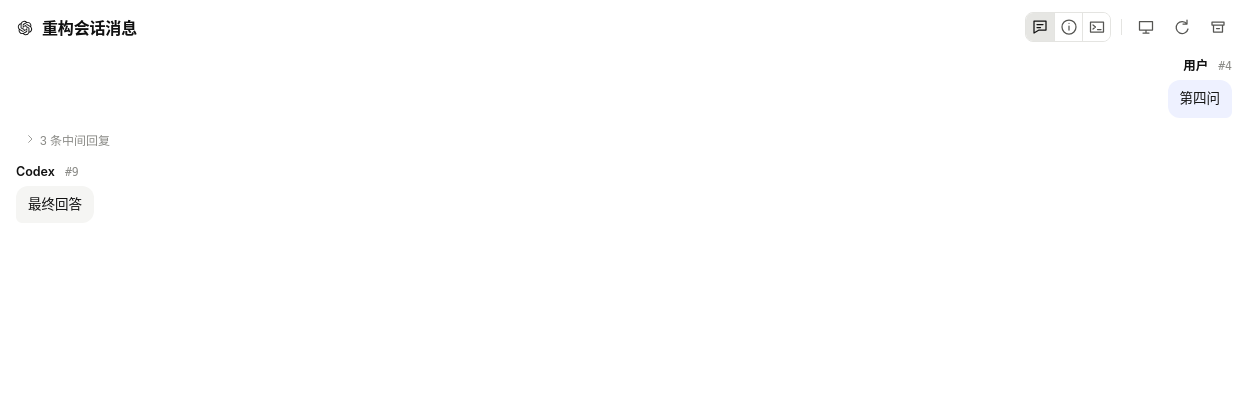
Scenario: says so in the block when a turn's intermediates were cut short
# 两端时间戳缺一个就给不出时长：摘要退化为条数。
Click the button "3 条中间回复" at {"x": 67, "y": 139}, box [16, 128, 118, 151]
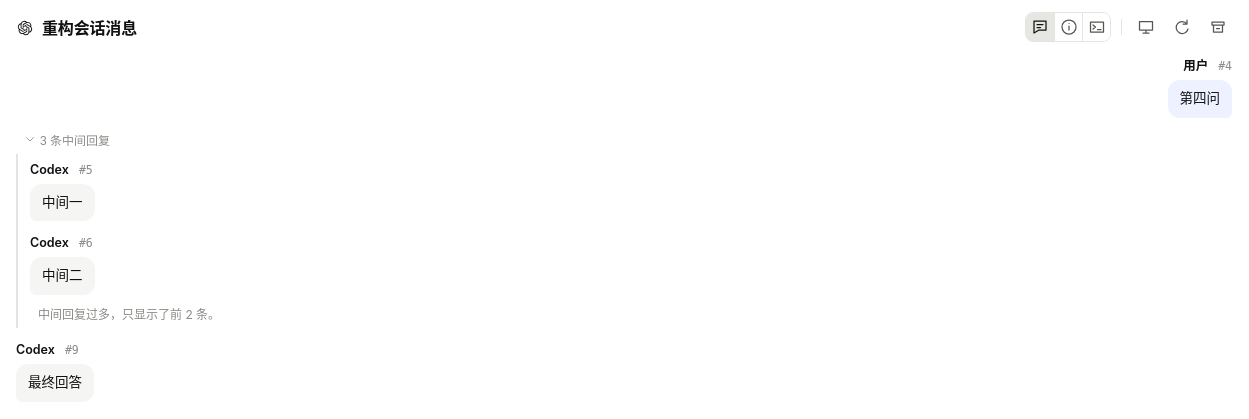
Expected: the button "中间二" is shown, [30, 257, 94, 295]
Expected: the text "中间回复过多，只显示了前 2 条。" is shown, [38, 307, 220, 322]
